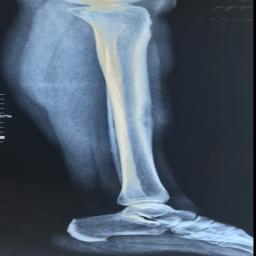cancer: (134, 99, 179, 137)
